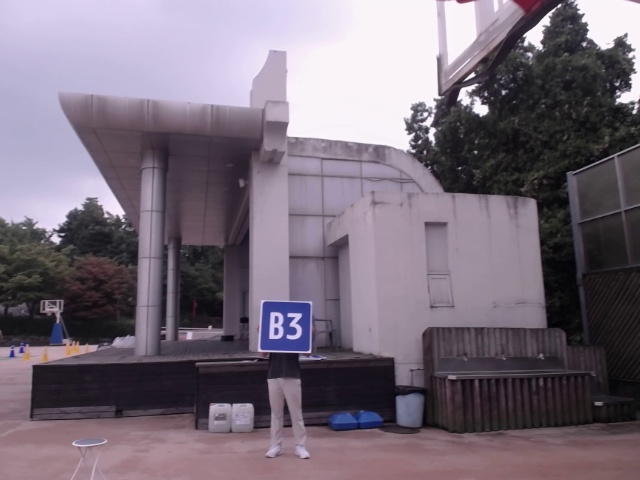delivery_b3: (259, 302, 313, 352)
